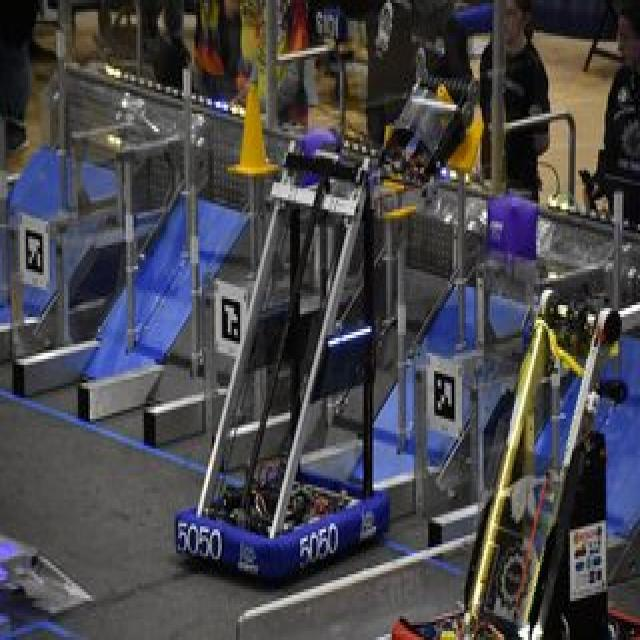robot: (161, 39, 378, 603), (374, 281, 640, 634)
